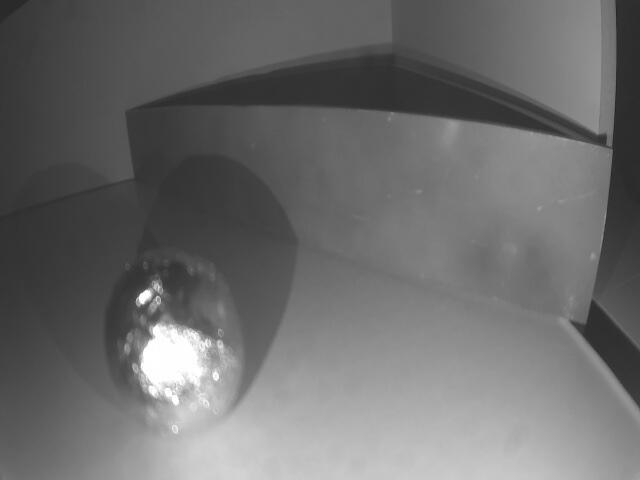Green: (123, 110, 613, 325)
Live: (101, 258, 243, 438)
